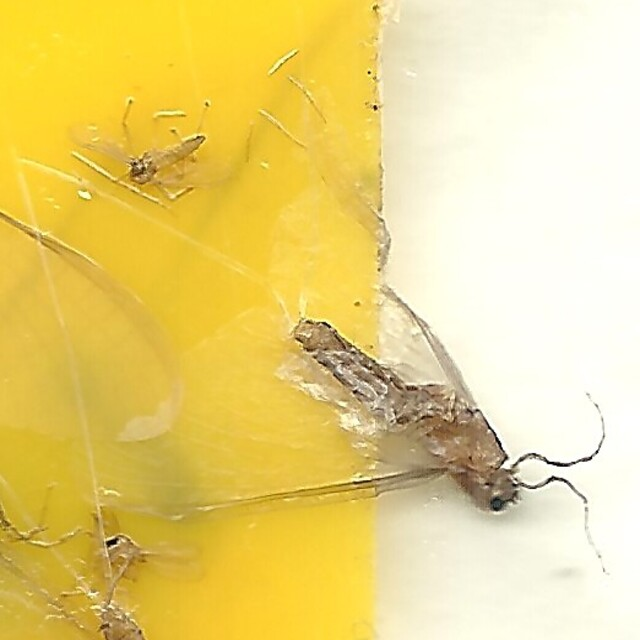Ephemeroptera: (294, 317, 517, 516)
Nematocera: (123, 124, 201, 193)
